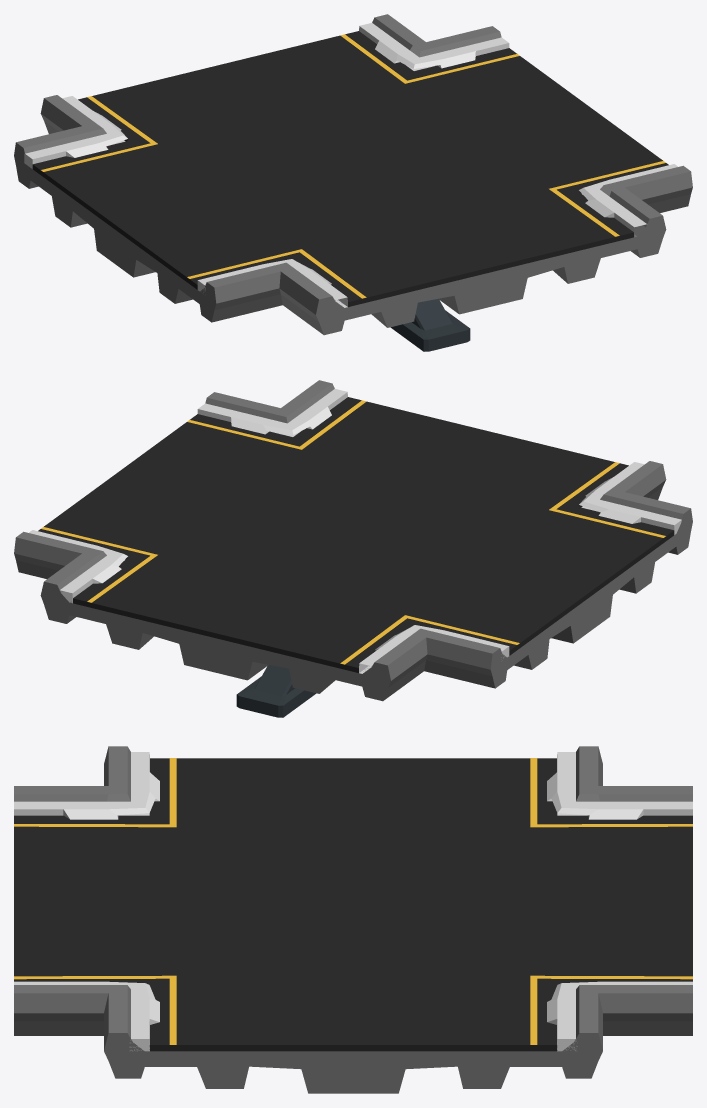
File: X_road.glb
The picture shows the model from 3 angles, top to bottom: view 1: azimuth 30°, elevation 25°; view 2: azimuth 150°, elevation 25°; view 3: azimuth 270°, elevation 25°; orthographic projection. The views are drawn at different scales.
Visible parts, largest first — view 1: SHIZI, 立方体.003, 立方体.004, 平面.001, 立方体.005; view 2: SHIZI, 立方体.003, 立方体.004, 平面.001, 立方体.005; view 3: SHIZI, 立方体.003, 立方体.004, 平面.001.
Boxes of the visible parts, left/top/right/bottom form: SHIZI: left=32, top=31, right=668, bottom=306; 立方体.003: left=14, top=14, right=692, bottom=335; 立方体.004: left=24, top=23, right=677, bottom=307; 平面.001: left=41, top=34, right=665, bottom=298; 立方体.005: left=390, top=299, right=470, bottom=351; SHIZI: left=38, top=397, right=674, bottom=672; 立方体.003: left=14, top=380, right=692, bottom=701; 立方体.004: left=29, top=389, right=681, bottom=673; 平面.001: left=41, top=400, right=665, bottom=664; 立方体.005: left=236, top=665, right=316, bottom=717; SHIZI: left=14, top=758, right=692, bottom=1051; 立方体.003: left=14, top=746, right=692, bottom=1093; 立方体.004: left=14, top=752, right=692, bottom=1051; 平面.001: left=14, top=758, right=692, bottom=1044.
Bounding box in the file's own units: 10 × 2.42 × 10.
